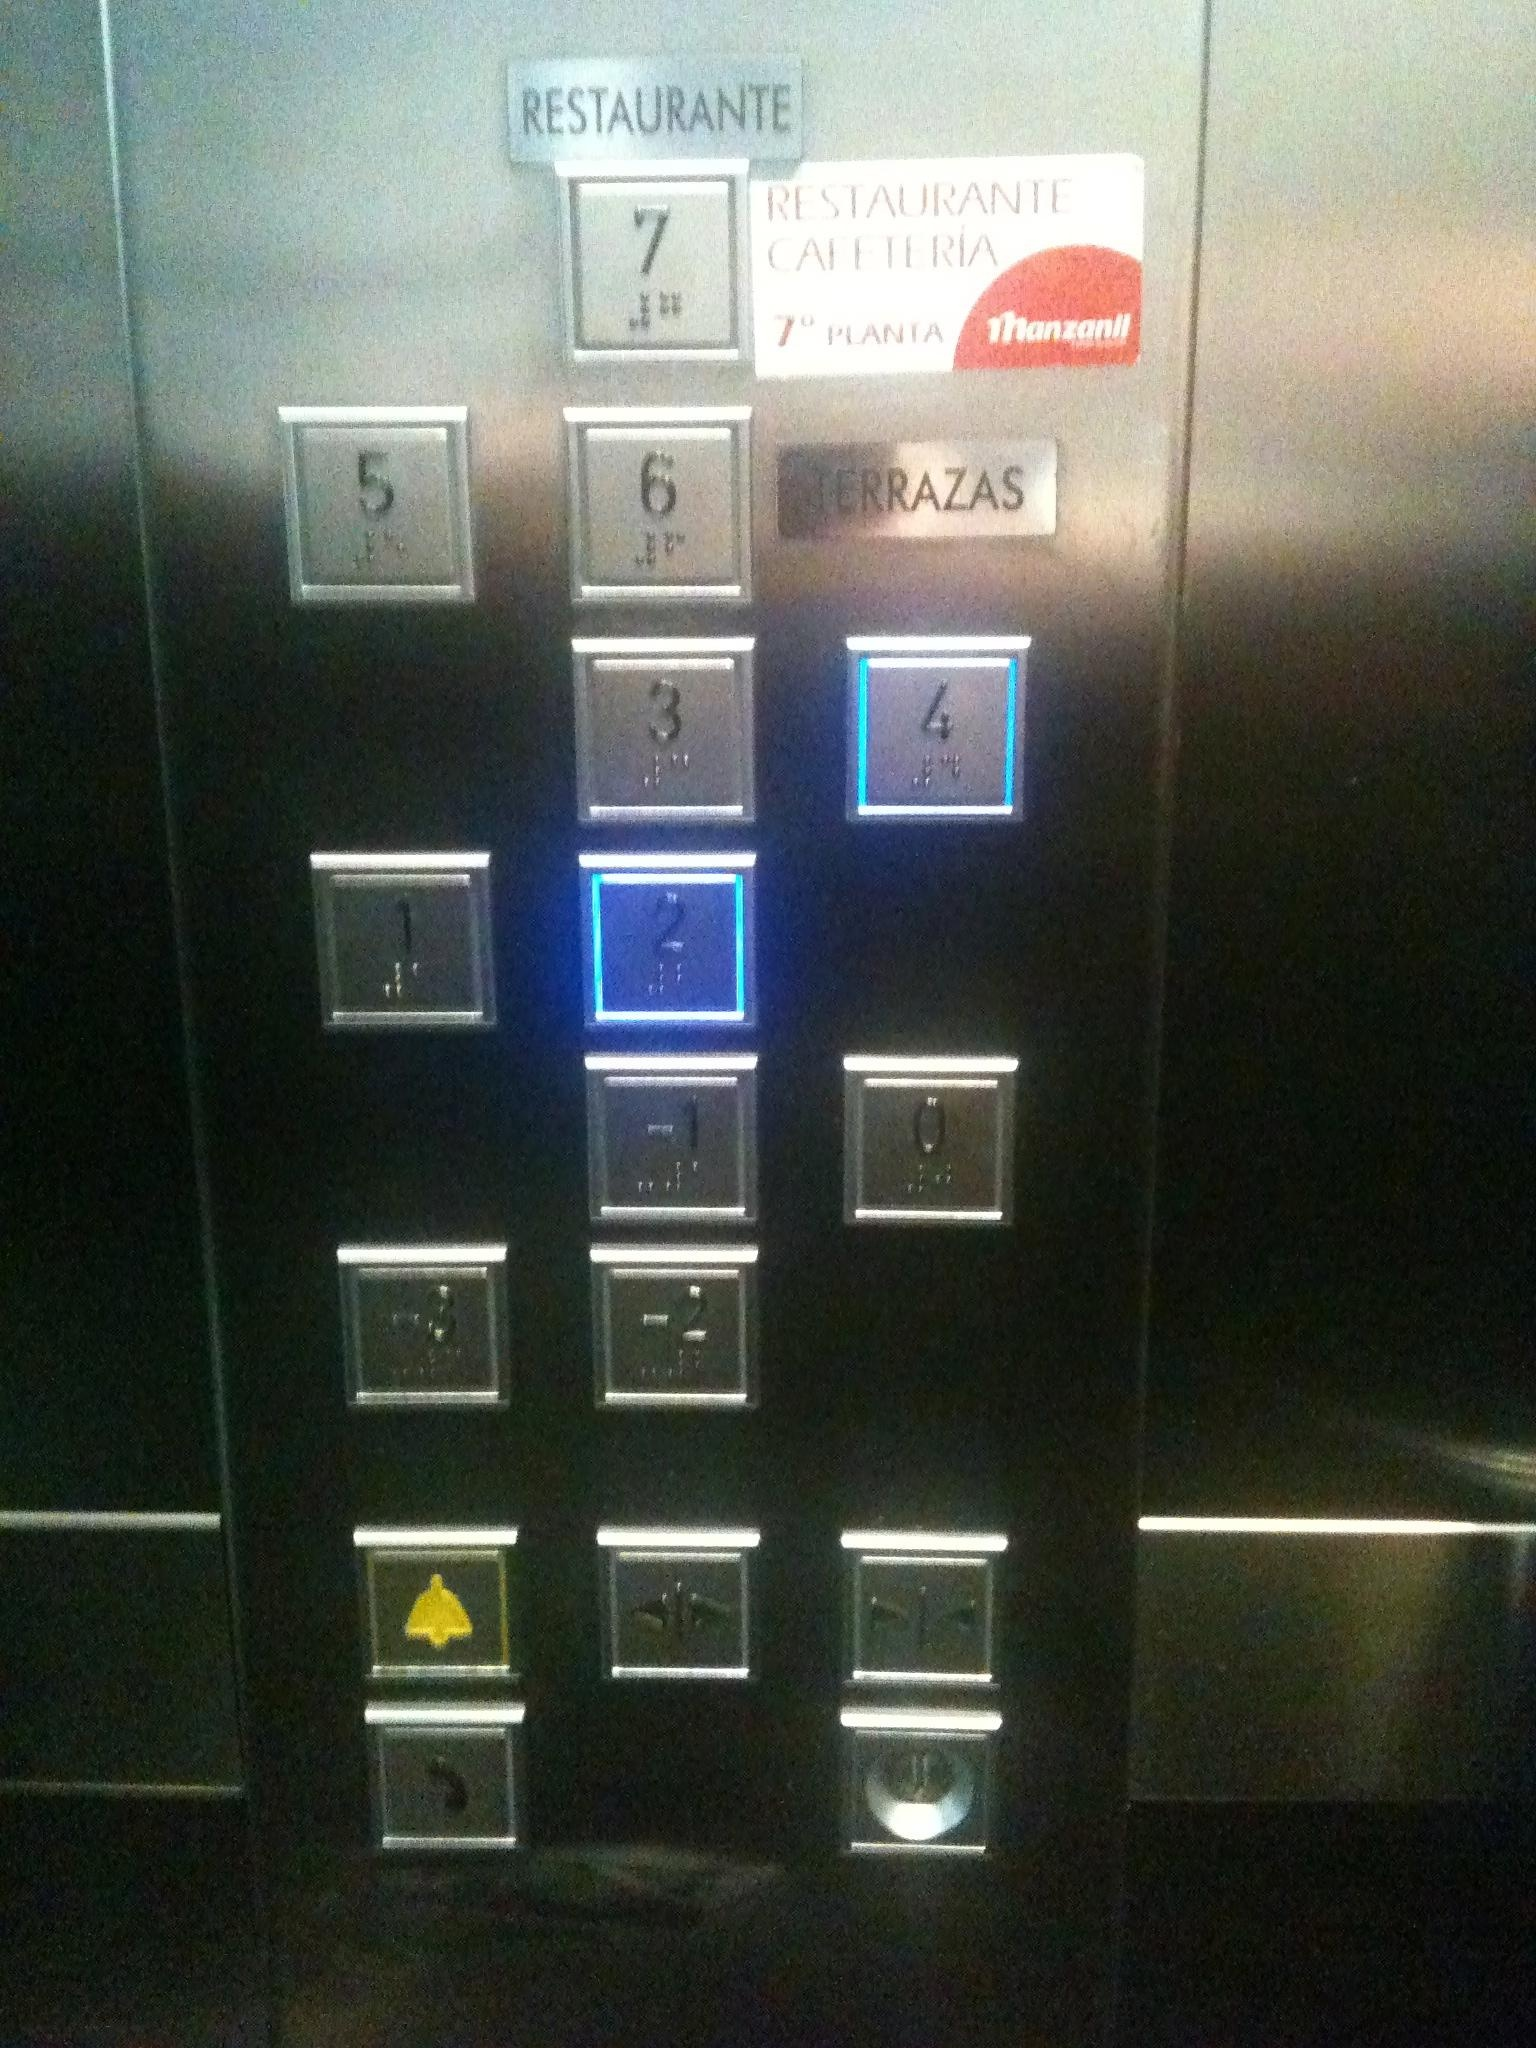-1: (578, 1045, 765, 1243)
-2: (581, 1238, 762, 1421)
-3: (328, 1230, 508, 1413)
0: (837, 1047, 1023, 1245)
1: (303, 842, 497, 1053)
2: (576, 842, 762, 1048)
3: (563, 622, 753, 840)
4: (837, 622, 1028, 840)
5: (274, 398, 482, 624)
6: (558, 402, 766, 627)
7: (545, 150, 753, 376)
alarm: (350, 1521, 518, 1696)
bt_keyhole: (839, 1711, 1004, 1864)
call: (365, 1703, 528, 1856)
close: (833, 1526, 1013, 1708)
open: (594, 1522, 762, 1700)
